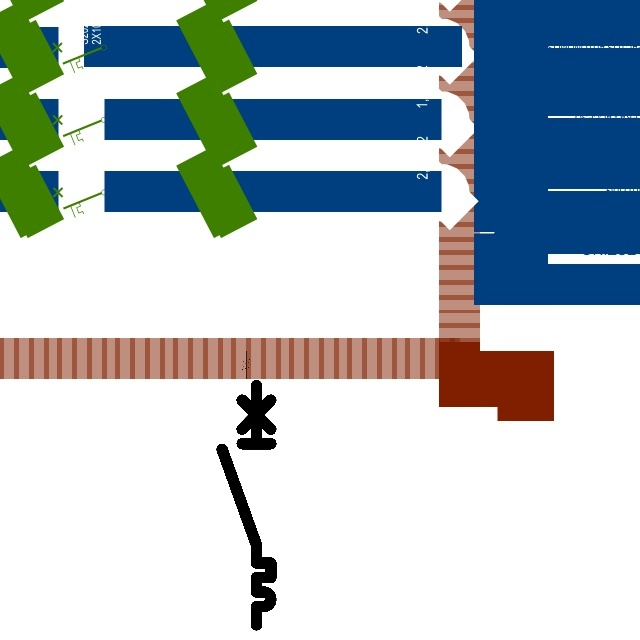interruptor_termomagnetico: (216, 379, 277, 631)
